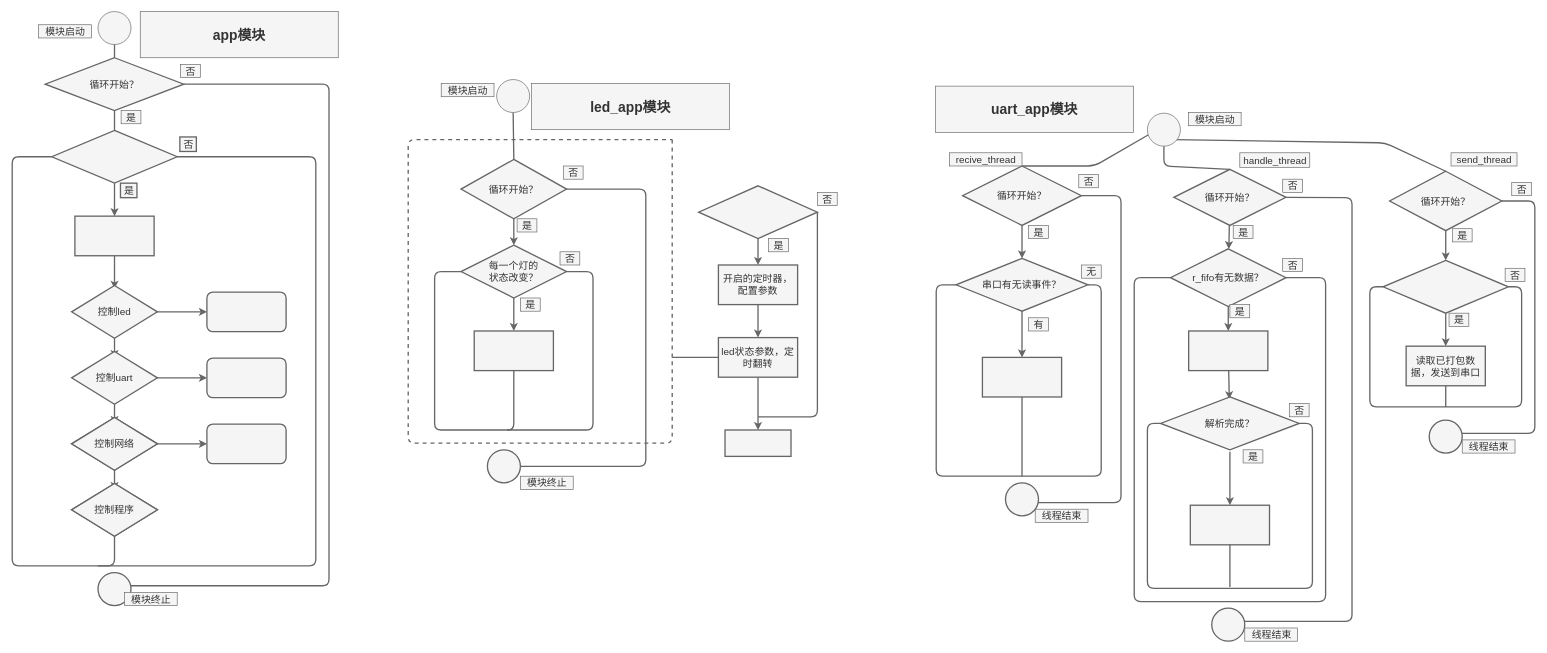
Image size: 1547x653. Some labels were removed from this diagram. The centre of each missing label's shape, as x and y in pixels:
"led模式被设置为 呼吸?" belongs at (758,212).
"w_fifo有无数据？" belongs at (1445,286).
"上报消息队列" belongs at (1229,524).
"控制底层改变led状况" belongs at (513,350).
"根据cmd分发具体命令给inet_app" belongs at (246,443).
"根据cmd分发具体命令给led_app" belongs at (246,311).
"根据cmd分发具体命令给uart_app" belongs at (246,377).
"消息队列存在数据？" belongs at (114,156).
"读取数据， 进行hup解析" belongs at (1228,350).
"读取数据，存入r_fifo" belongs at (1021,376).
"调用结束， 等待调用" belongs at (757,443).
"进入app状态机，检测状态" belongs at (114,235).
